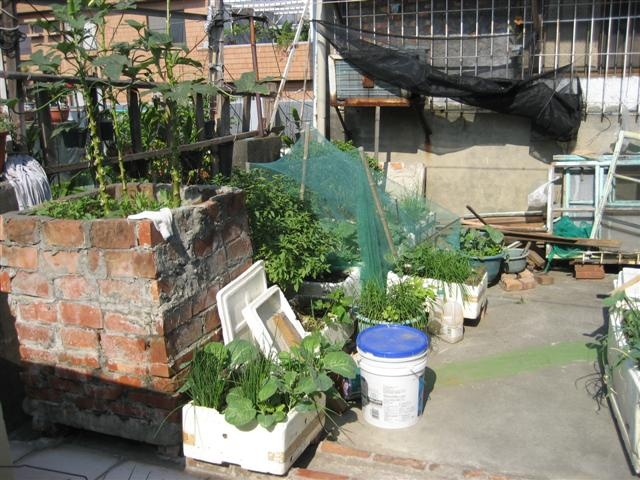bucket: (356, 323, 429, 430)
styrofoam: (181, 390, 328, 477), (241, 282, 307, 372), (384, 266, 490, 320)
